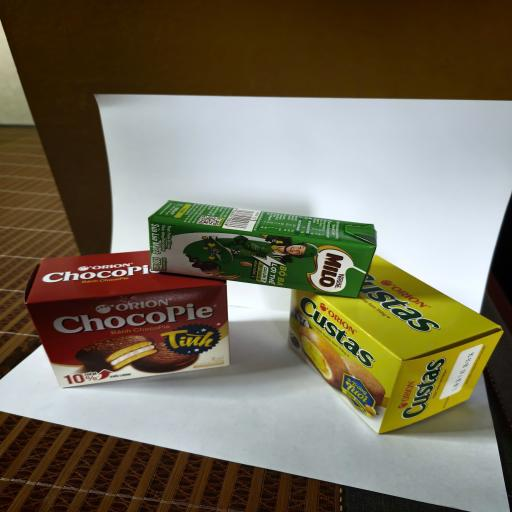chocopie: (24, 250, 231, 388)
custas: (287, 254, 504, 434)
milo: (147, 200, 378, 299)
